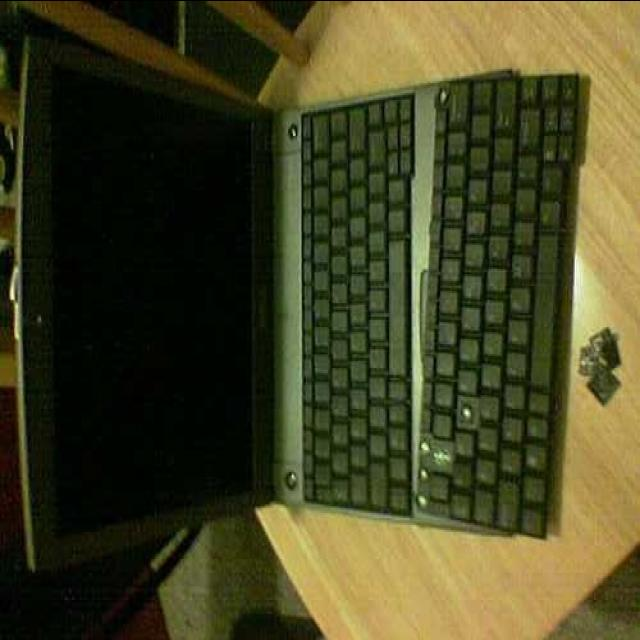laptop: (32, 32, 464, 560)
